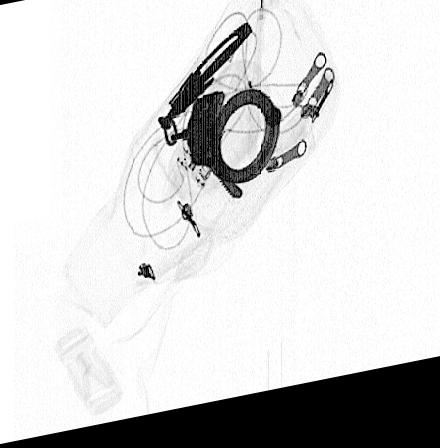HandCuffs: (154, 28, 285, 209)
